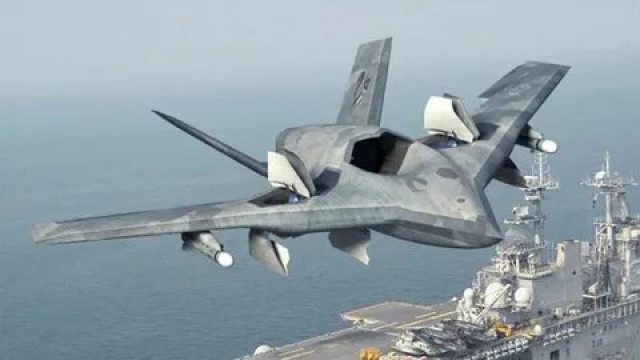military drone: (30, 37, 571, 275)
